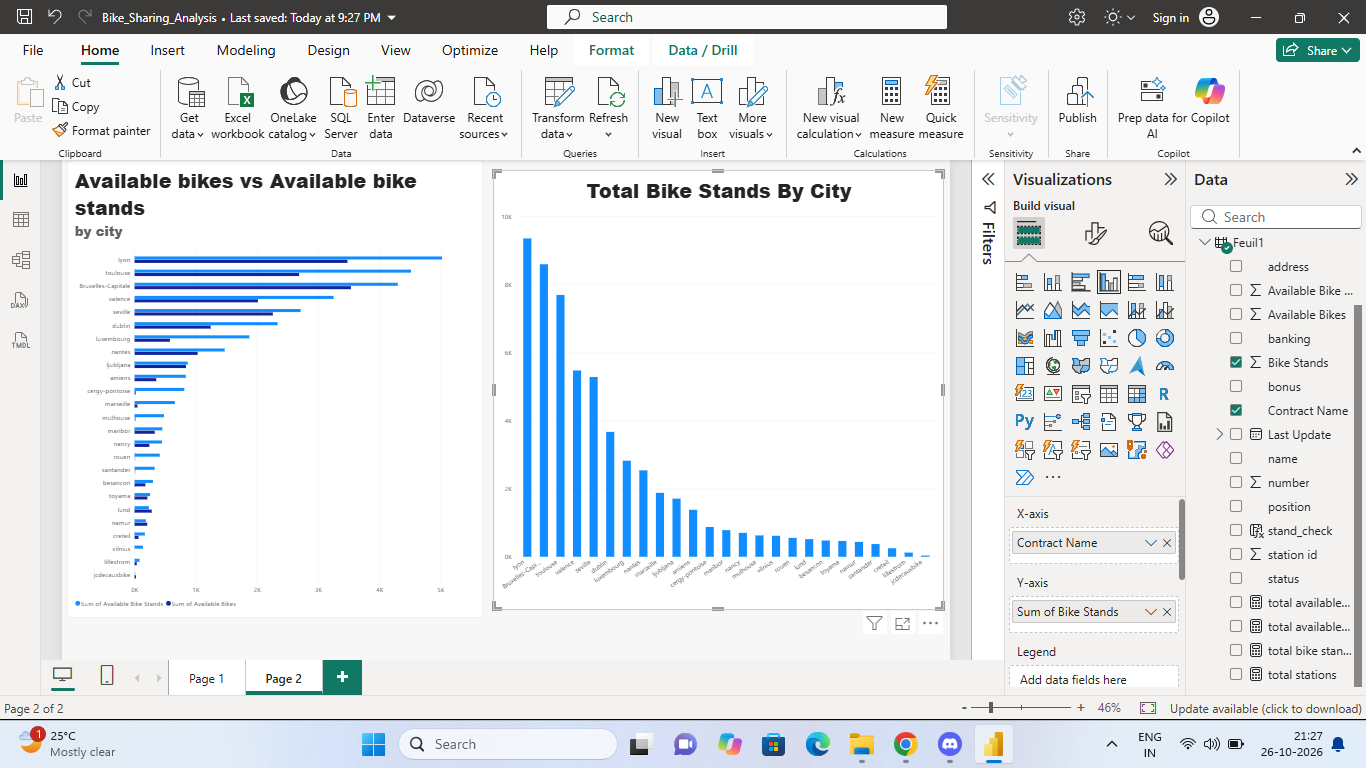

What the dashboard file says about the page in this screenshot:
{"tool":"powerbi","page":{"name":"Page 2","canvas":[1920,1080],"ordinal":1},"visuals":[{"type":"clusteredBarChart","title":"Available bikes vs Available bike stands","fields":{"Category":["Feuil1.Contract Name"],"Y":["Sum(Feuil1.Available Bike Stands)","Sum(Feuil1.Available Bikes)"]},"box":[10.8,0,898.6,989.3],"z":0},{"type":"clusteredColumnChart","title":"Total Bike Stands By City","fields":{"Category":["Feuil1.Contract Name"],"Y":["Sum(Feuil1.Bike Stands)"]},"box":[931,21.6,974.2,950.4],"z":1}]}

Visuals, with their boxes on the page's 1920x1080 design canvas (x1, y1, x2, y2). These are canvas units, not pixel positions in the 1366x768 screenshot, which may show the page scaled, cropped or inside an application window:
"Available bikes vs Available bike stands" clusteredBarChart: (11, 0, 909, 989)
"Total Bike Stands By City" clusteredColumnChart: (931, 22, 1905, 972)
